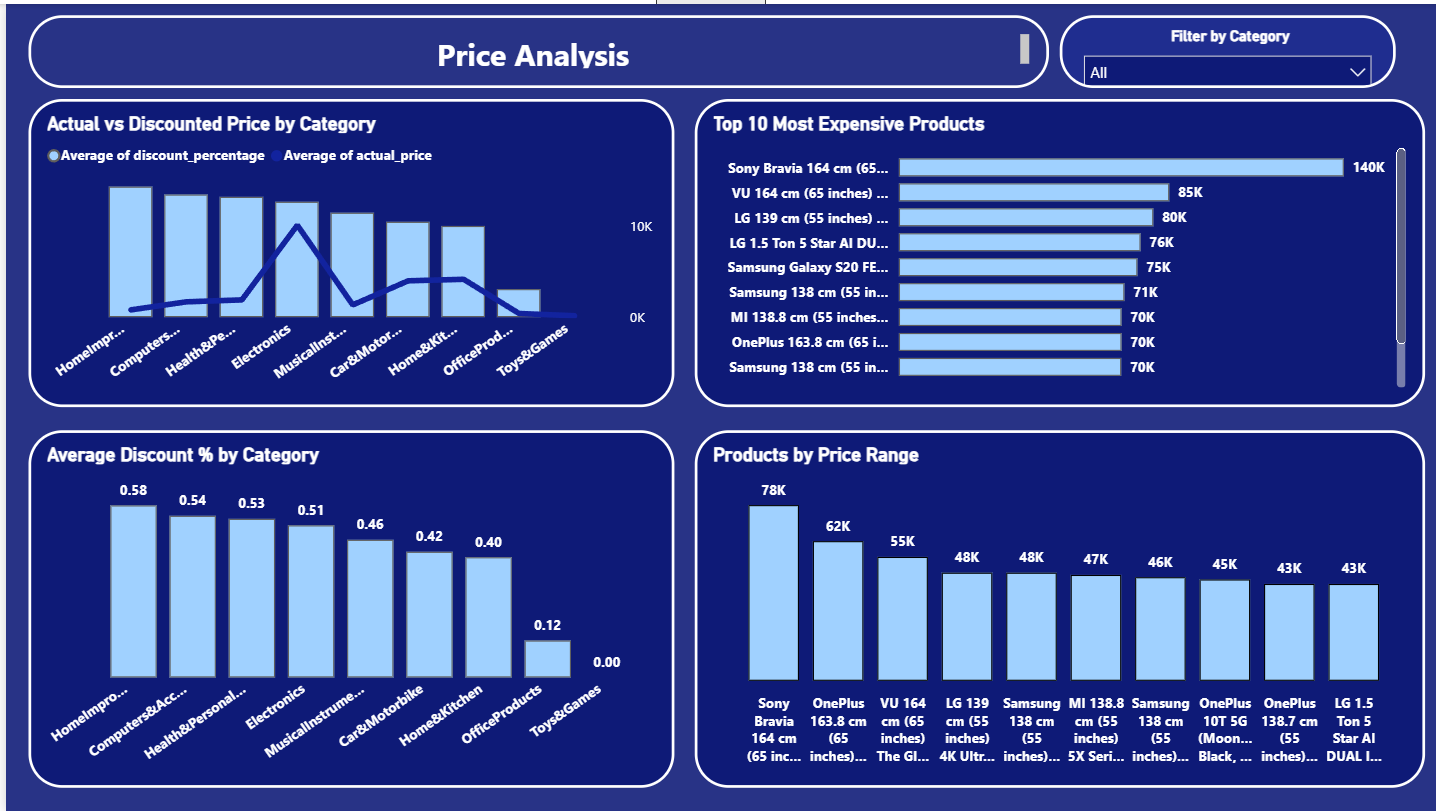

Layout of this report page (visuals, bound fields, positions):
{"tool":"powerbi","page":{"name":"Price Analysis 💰","canvas":[1280,720],"ordinal":2},"visuals":[{"type":"textbox","box":[20.6,9.6,908.4,64.5],"z":0},{"type":"lineClusteredColumnComboChart","title":"Actual vs Discounted Price by Category","fields":{"Category":["amazon_db amazon_products.category"],"Y2":["Avg(amazon_db amazon_products.actual_price)"],"Y":["Avg(amazon_db amazon_products.discount_percentage)"]},"box":[20.6,85.1,575,274.4],"z":1000},{"type":"clusteredBarChart","title":"Top 10 Most Expensive Products","fields":{"Category":["amazon_db amazon_products.product_name"],"Y":["Max(amazon_db amazon_products.actual_price)"]},"box":[613.4,85.1,650.4,274.4],"z":2000},{"type":"clusteredColumnChart","title":"Average Discount % by Category","fields":{"Category":["amazon_db amazon_products.category"],"Y":["Avg(amazon_db amazon_products.discount_percentage)"]},"box":[20.6,380.1,575,318.4],"z":3000},{"type":"clusteredColumnChart","title":"Products by Price Range","fields":{"Y":["Max(amazon_db amazon_products.discounted_price)"],"Category":["amazon_db amazon_products.product_name"]},"box":[613.4,380.1,650.4,318.4],"z":4000},{"type":"slicer","title":"Filter by Category","fields":{"Values":["amazon_db amazon_products.category"]},"box":[938.6,9.6,299.1,64.5],"z":5000}]}

Visuals, with their boxes in screenshot pixels (x1, y1, x2, y2), scaled from the page's 1280x720 canvas onto the 1436x811 screenshot:
textbox: {"x1": 23, "y1": 11, "x2": 1042, "y2": 83}
"Actual vs Discounted Price by Category" lineClusteredColumnComboChart: {"x1": 23, "y1": 96, "x2": 668, "y2": 405}
"Top 10 Most Expensive Products" clusteredBarChart: {"x1": 688, "y1": 96, "x2": 1418, "y2": 405}
"Average Discount % by Category" clusteredColumnChart: {"x1": 23, "y1": 428, "x2": 668, "y2": 787}
"Products by Price Range" clusteredColumnChart: {"x1": 688, "y1": 428, "x2": 1418, "y2": 787}
"Filter by Category" slicer: {"x1": 1053, "y1": 11, "x2": 1389, "y2": 83}
